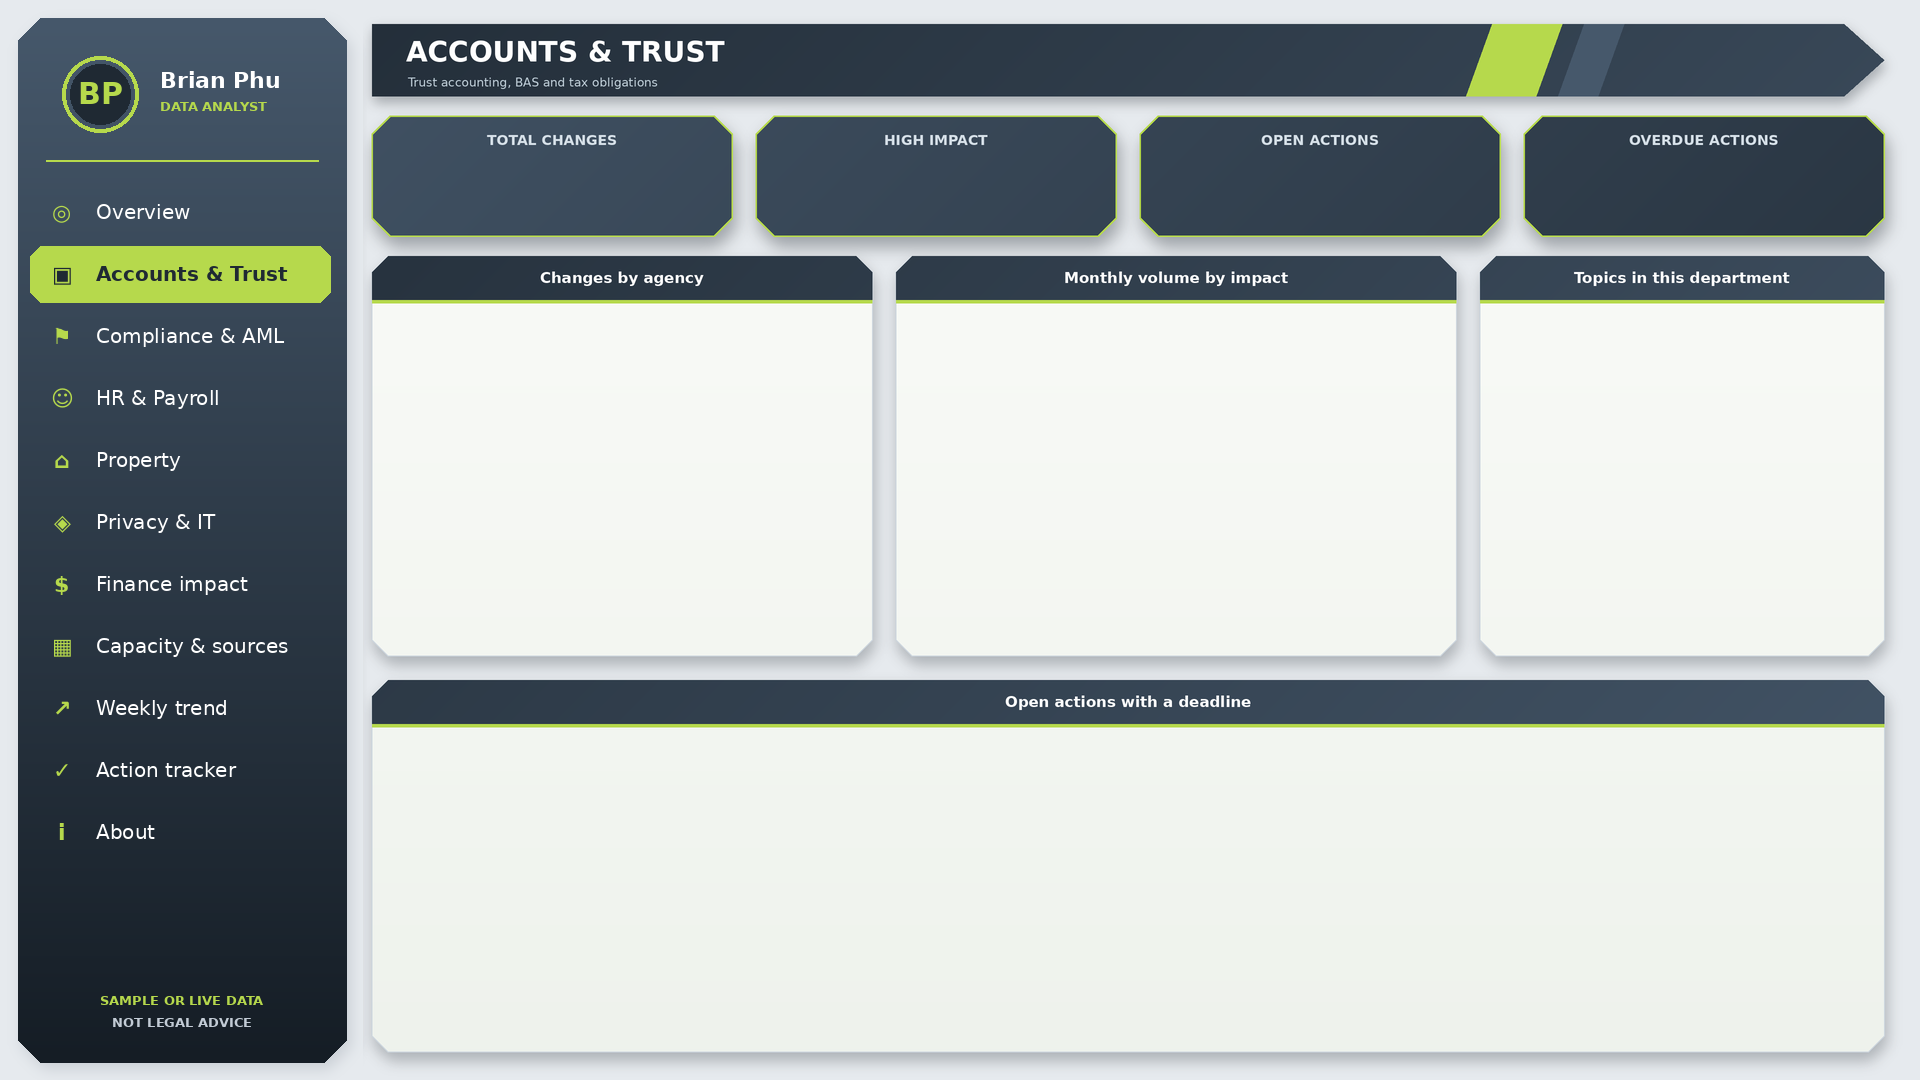

This screenshot's page, from the dashboard's own definition file:
{"tool":"powerbi","page":{"name":"Accounts & Trust","canvas":[1920,1080],"ordinal":1},"visuals":[{"type":"cardVisual","fields":{"Data":["changes.Total Changes"]},"box":[382,146,340,84],"z":1200},{"type":"cardVisual","fields":{"Data":["changes.High Impact"]},"box":[766,146,340,84],"z":1210},{"type":"cardVisual","fields":{"Data":["changes.Open Actions"]},"box":[1150,146,340,84],"z":1220},{"type":"cardVisual","fields":{"Data":["changes.Overdue Actions"]},"box":[1534,146,340,84],"z":1230},{"type":"lineClusteredColumnComboChart","fields":{"Category":["changes.source"],"Y":["changes.Total Changes"],"Y2":["changes.Action Rate"]},"box":[384,308,476,336],"z":1240},{"type":"columnChart","fields":{"Category":["dim_date.year_month"],"Series":["changes.impact"],"Y":["changes.Total Changes"]},"box":[908,308,536,336],"z":1250},{"type":"barChart","fields":{"Category":["change_topics.topic"],"Y":["changes.Total Changes"]},"box":[1492,308,380,336],"z":1260},{"type":"tableEx","fields":{"Values":["changes.title","changes.source","changes.impact","changes.deadline","changes.Days To Deadline","changes.status"]},"box":[384,732,1488,308],"z":1270},{"type":"slicer","title":"Status","fields":{"Values":["changes.status"]},"box":[1120,26,180,62],"z":1280},{"type":"slicer","title":"Year","fields":{"Values":["dim_date.year"]},"box":[1316,26,150,62],"z":1290},{"type":"actionButton","box":[30,190,300,56],"z":9000},{"type":"actionButton","box":[30,256,300,56],"z":9001},{"type":"actionButton","box":[30,322,300,56],"z":9002},{"type":"actionButton","box":[30,388,300,56],"z":9003},{"type":"actionButton","box":[30,454,300,56],"z":9004},{"type":"actionButton","box":[30,520,300,56],"z":9005},{"type":"actionButton","box":[30,586,300,56],"z":9006},{"type":"actionButton","box":[30,652,300,56],"z":9007}]}

Visuals, with their boxes in screenshot pixels (x1, y1, x2, y2), scaled from the page's 1920x1080 canvas onto the 1920x1080 screenshot:
cardVisual - changes.Total Changes: bbox(382, 146, 722, 230)
cardVisual - changes.High Impact: bbox(766, 146, 1106, 230)
cardVisual - changes.Open Actions: bbox(1150, 146, 1490, 230)
cardVisual - changes.Overdue Actions: bbox(1534, 146, 1874, 230)
lineClusteredColumnComboChart - changes.source x changes.Total Changes: bbox(384, 308, 860, 644)
columnChart - dim_date.year_month x changes.impact: bbox(908, 308, 1444, 644)
barChart - change_topics.topic x changes.Total Changes: bbox(1492, 308, 1872, 644)
tableEx - changes.title x changes.source: bbox(384, 732, 1872, 1040)
"Status" slicer: bbox(1120, 26, 1300, 88)
"Year" slicer: bbox(1316, 26, 1466, 88)
actionButton: bbox(30, 190, 330, 246)
actionButton: bbox(30, 256, 330, 312)
actionButton: bbox(30, 322, 330, 378)
actionButton: bbox(30, 388, 330, 444)
actionButton: bbox(30, 454, 330, 510)
actionButton: bbox(30, 520, 330, 576)
actionButton: bbox(30, 586, 330, 642)
actionButton: bbox(30, 652, 330, 708)
